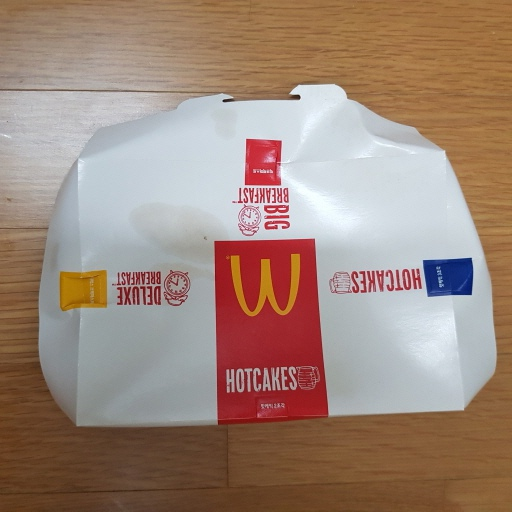Paper_0: (33, 83, 501, 424)
